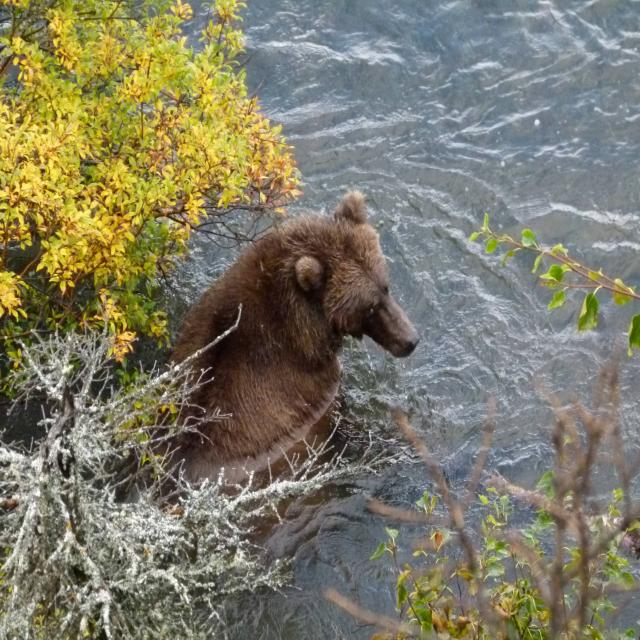bear face: (169, 188, 423, 469)
